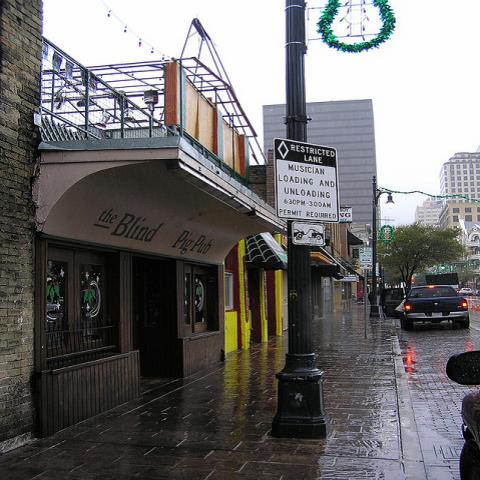car: (459, 287, 472, 296)
truck: (398, 285, 470, 331)
